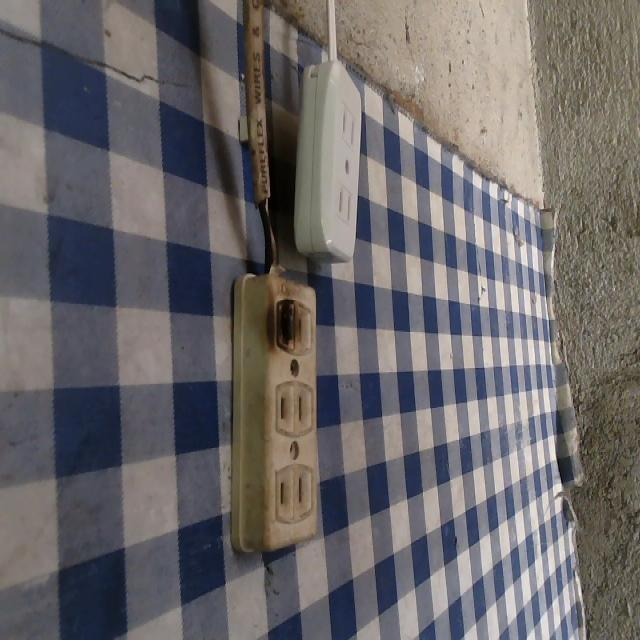-: (269, 292, 302, 361)
